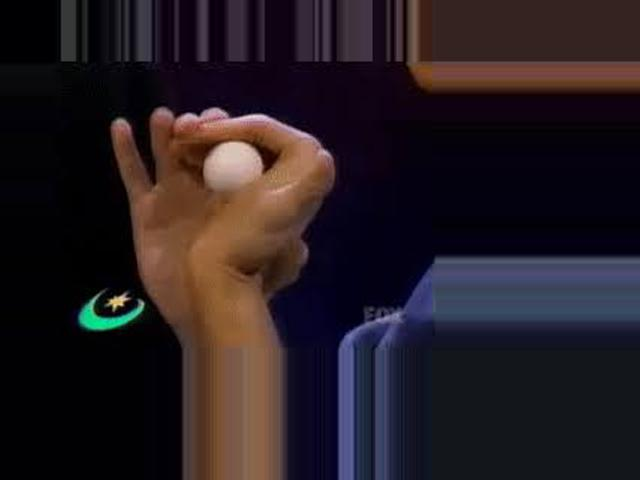egg: (202, 139, 265, 187)
